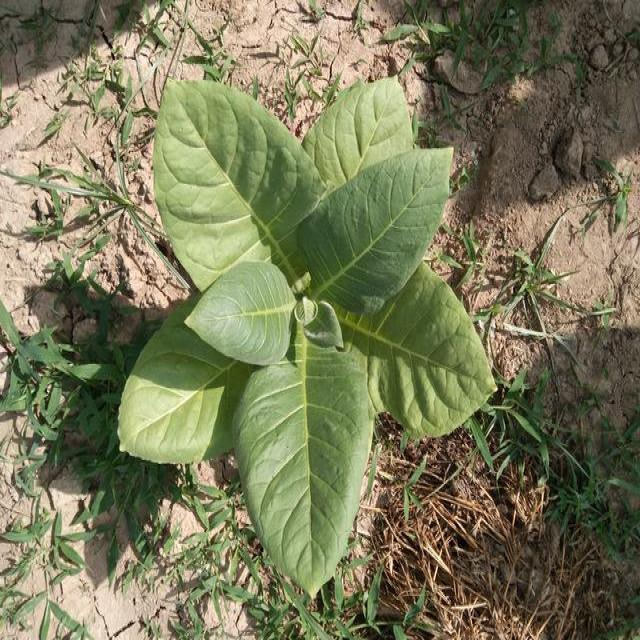crop: (118, 70, 502, 599)
